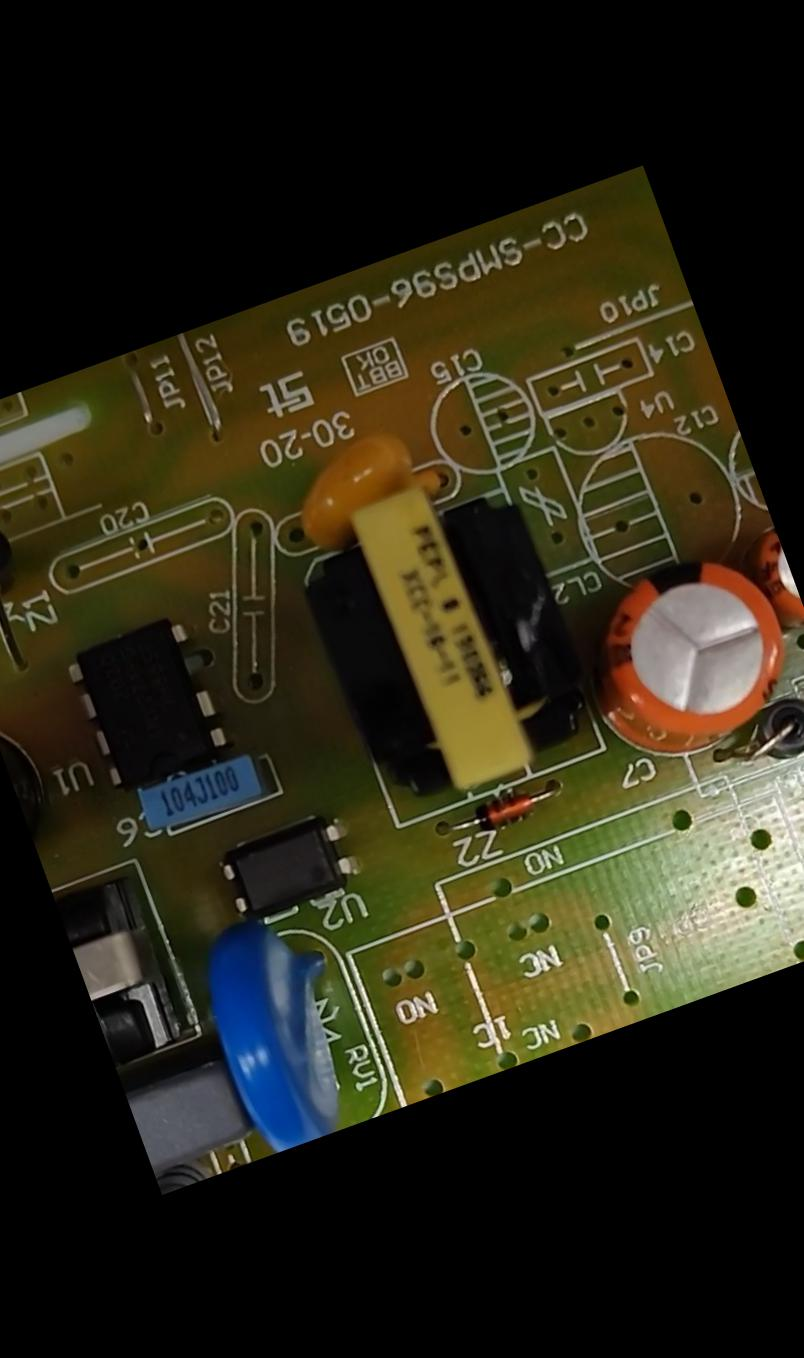Cap1: (574, 535, 803, 767)
Cap2: (742, 521, 803, 638)
MOSFET: (64, 610, 231, 795)
Mov: (181, 907, 371, 1158)
Resistor: (154, 1155, 210, 1194)
Transformer: (292, 462, 605, 814), (51, 869, 177, 1071)
